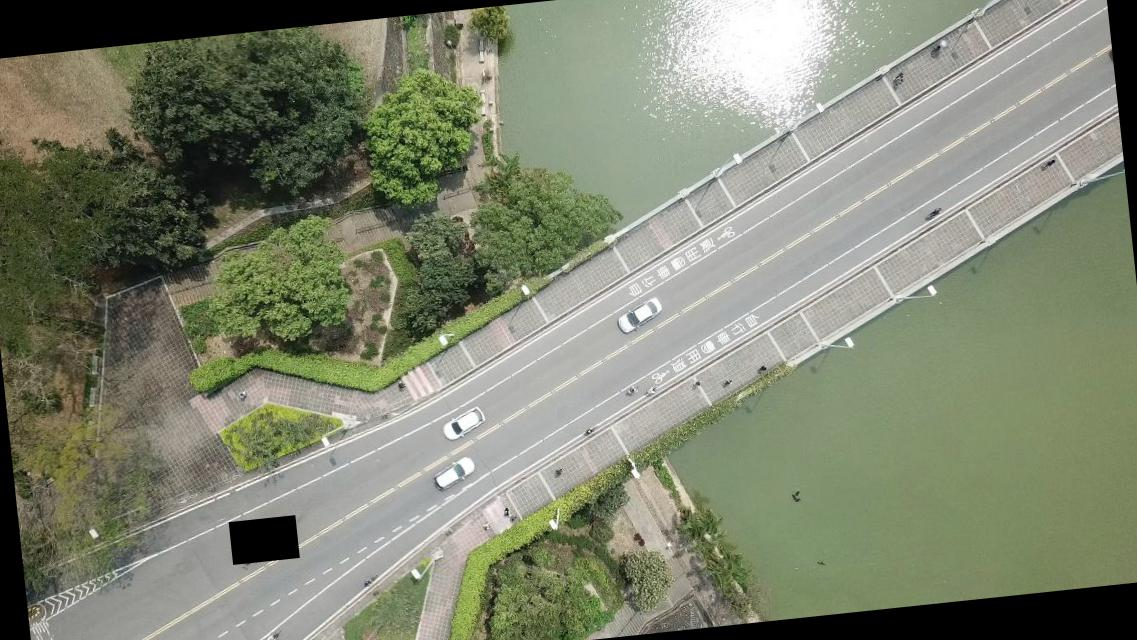vehicle: (614, 294, 665, 335), (440, 404, 488, 442), (430, 454, 477, 491)
